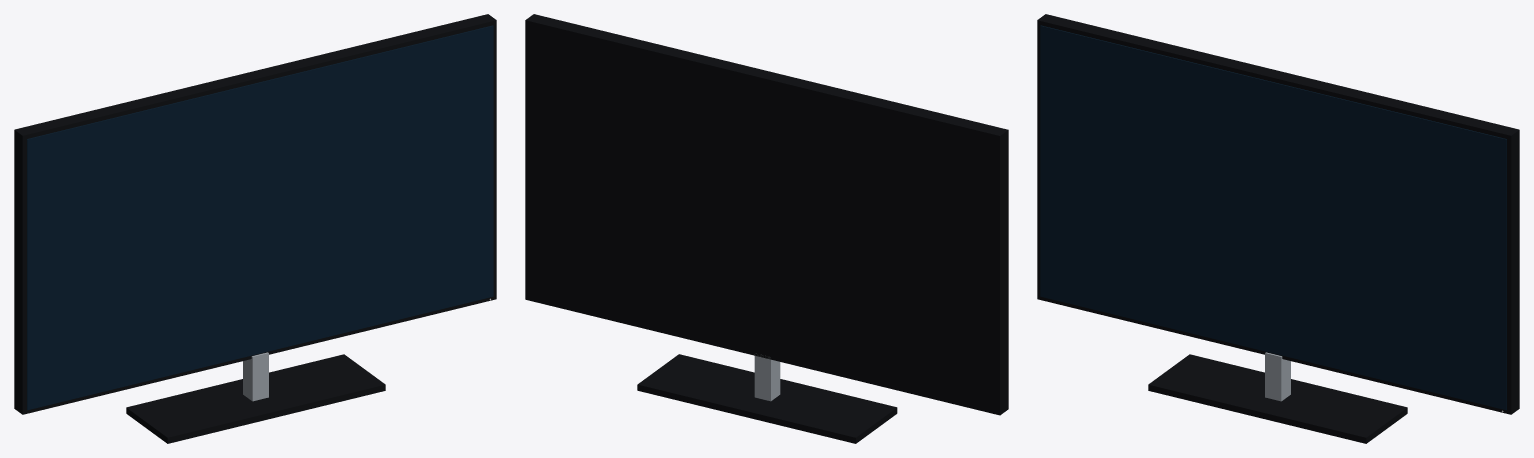
3 renders of one model, left to right at view 1: azimuth 30°, elevation 25°; view 2: azimuth 150°, elevation 25°; view 3: azimuth 330°, elevation 25°, orthographic.
Bounding box in the file's own units: 1.45 × 0.9556 × 0.22.
